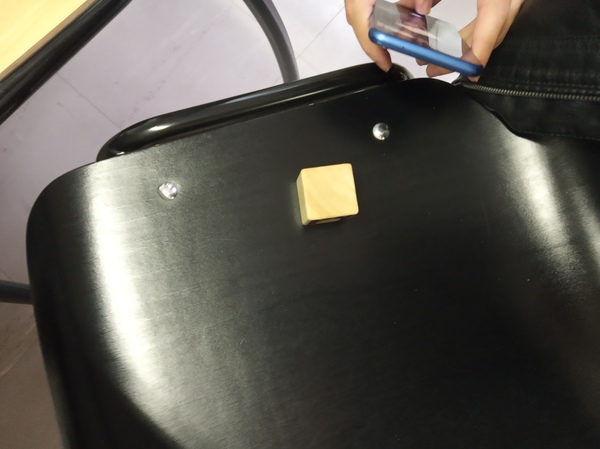violet: (294, 168, 359, 232)
